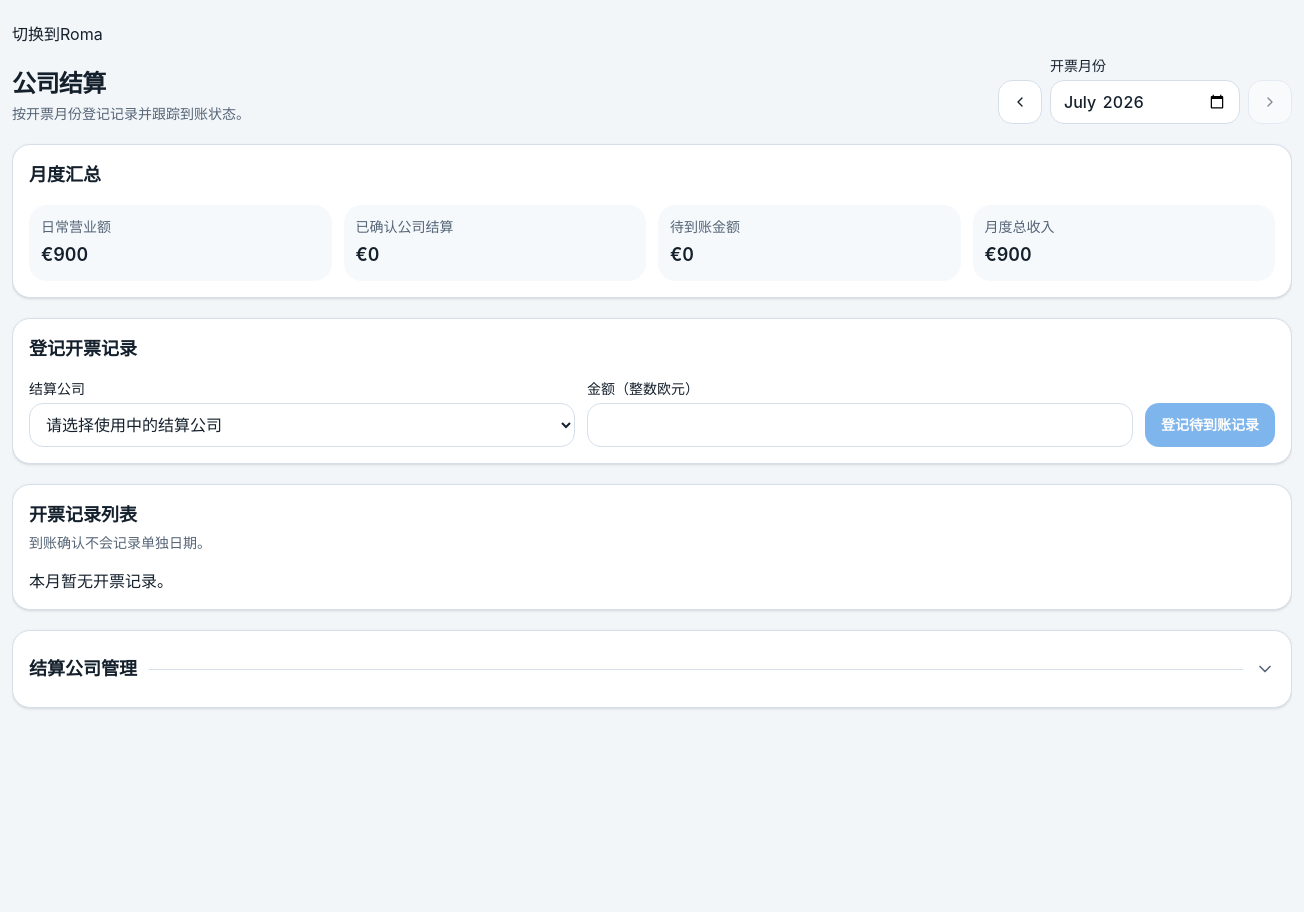
Test: CompanySettlementPage record corrections › navigates adjacent opening months and stops at the current month
Expected: the field labelled "开票月份" holds "2026-07", [1050,80,1240,124]
Expected: the button named "后一月" is disabled, [1248,80,1292,124]
Step 1. Click the button named "前一月" → x=1020, y=102, box [998,80,1042,124]
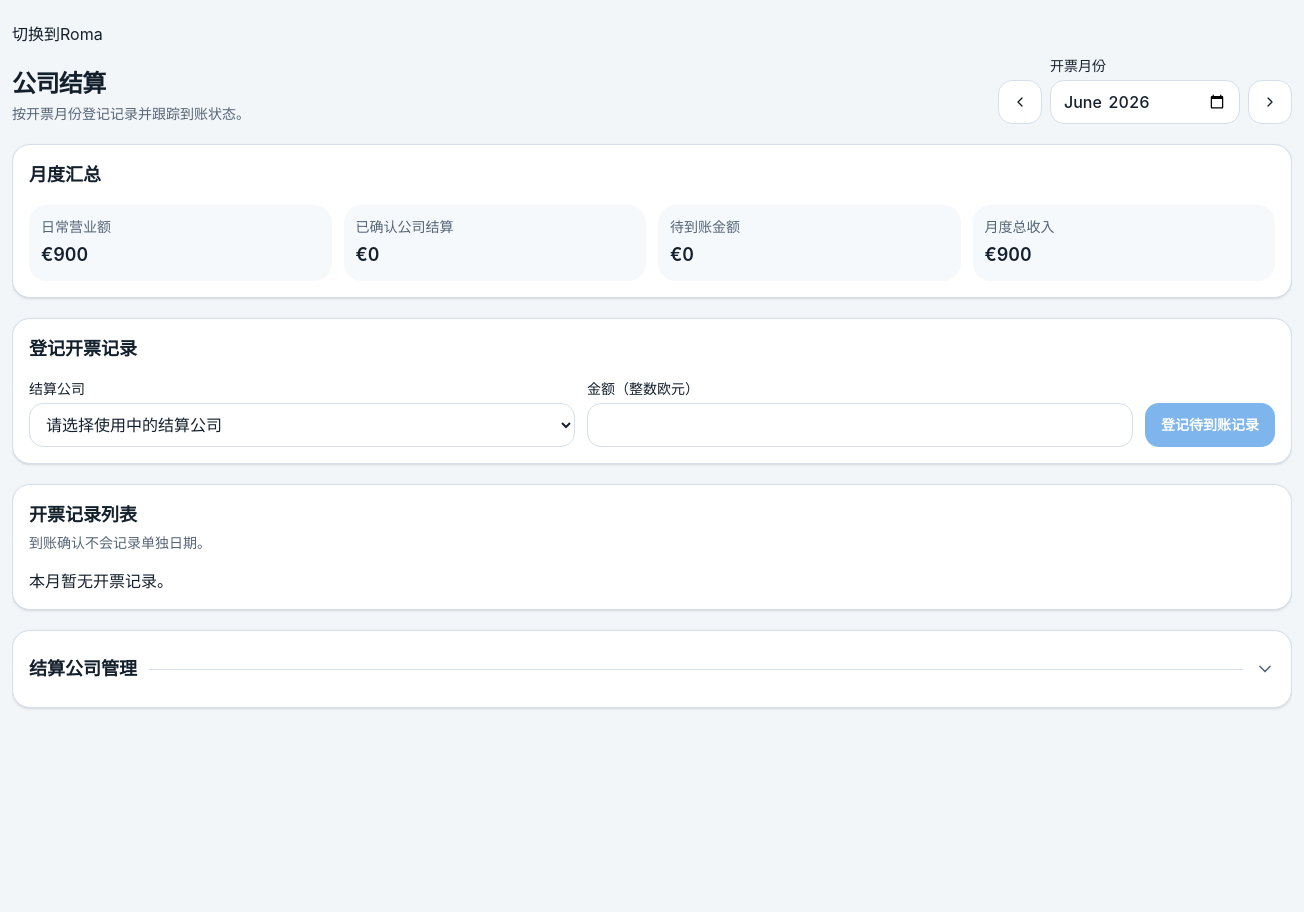
Expected: the field labelled "开票月份" holds "2026-06", [1050,80,1240,124]
Step 2. Click the button named "后一月" → x=1270, y=102, box [1248,80,1292,124]
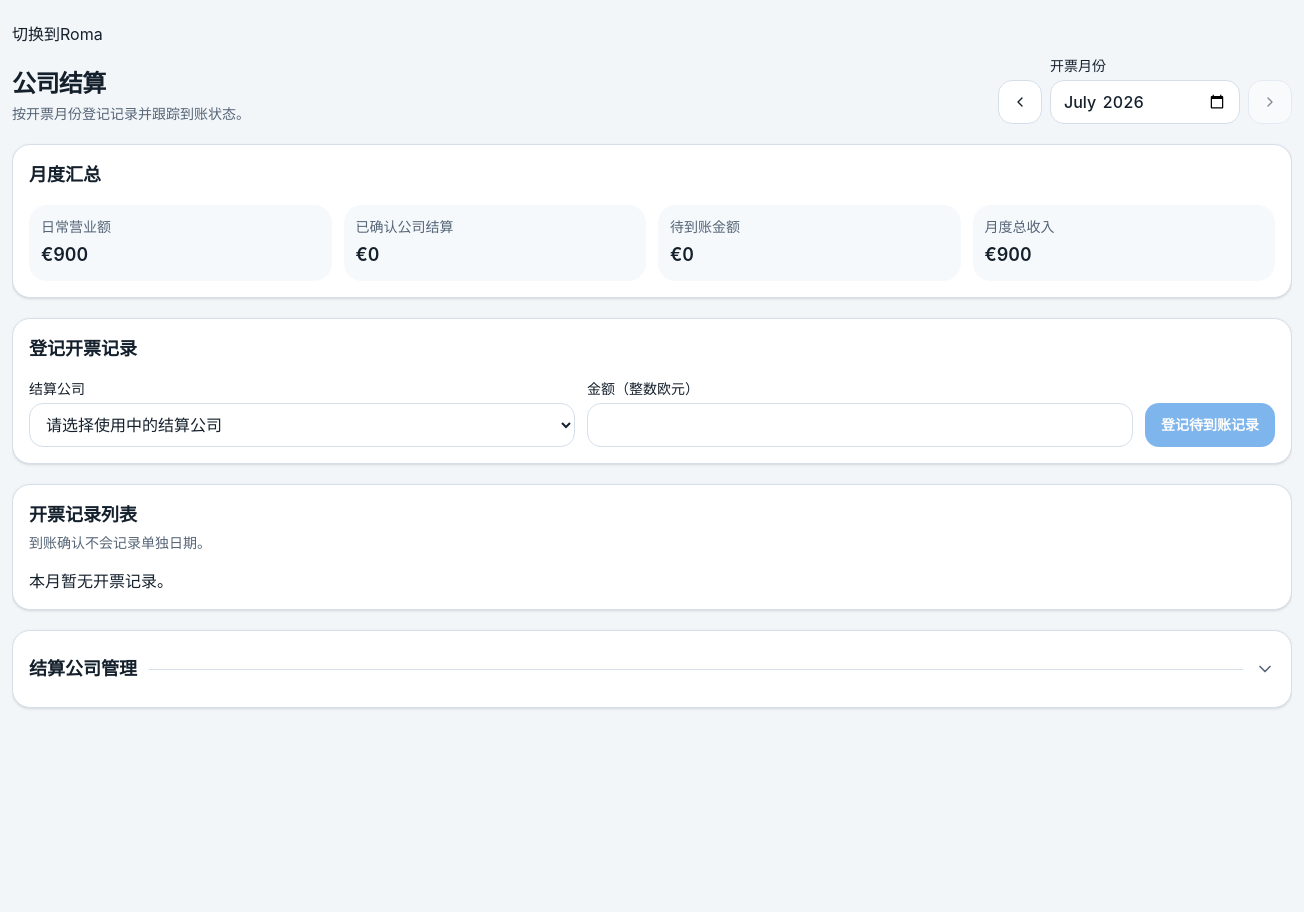
Expected: the field labelled "开票月份" holds "2026-07", [1050,80,1240,124]
